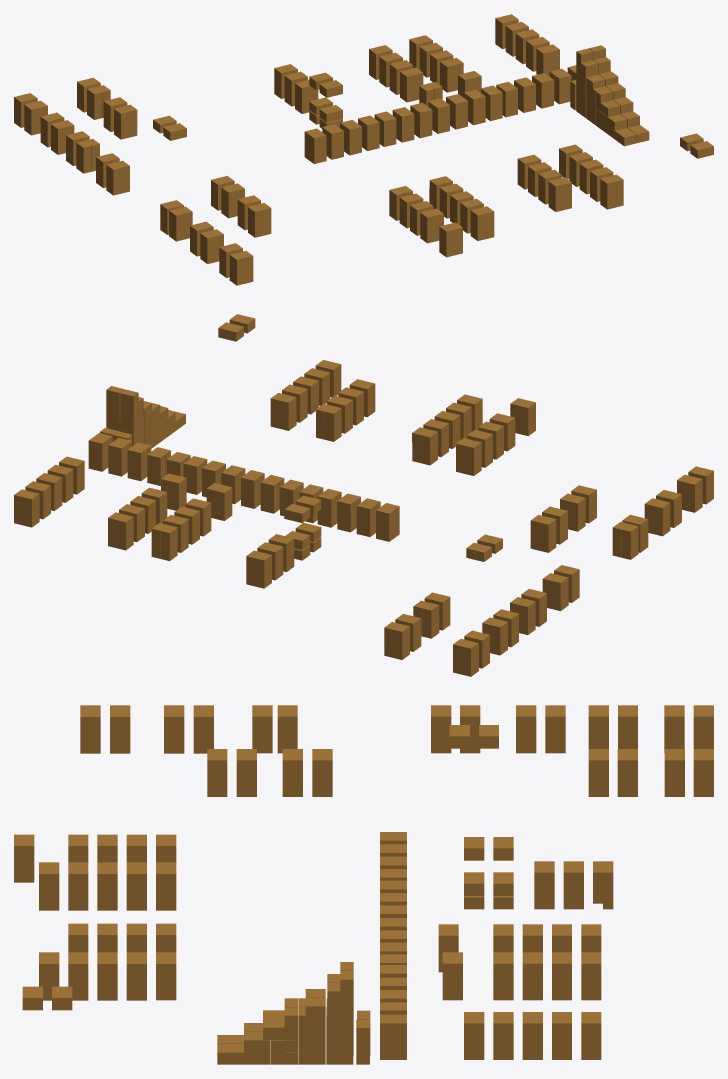
The model's file is caixas_level1 1.fbx.
The picture shows the model from 3 angles, top to bottom: view 1: azimuth 30°, elevation 25°; view 2: azimuth 150°, elevation 25°; view 3: azimuth 270°, elevation 25°; orthographic projection. The views are drawn at different scales.
Parts seen in each view (by area): view 1: box2.056, box2.054; view 2: box2.056, box2.054; view 3: box2.056, box2.054.
Part boxes in pixels (x1,y1,x2,y2): box2.056: (14,14,713,285); box2.054: (576,45,649,146); box2.056: (14,314,713,676); box2.054: (106,386,185,448); box2.056: (14,705,713,1064); box2.054: (217,962,353,1064).
Bounding box in the file's own units: 3104 × 386 × 2871.
